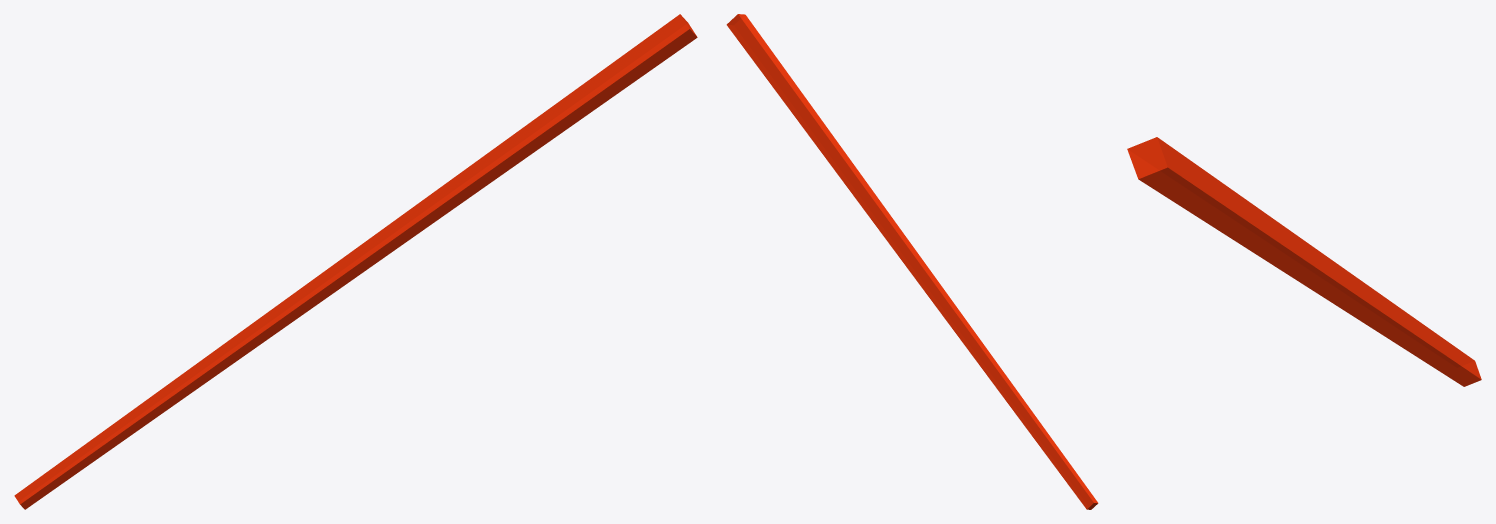
The model's file is Event_421115418_EBrechit_44.fbx.
The picture shows the model from 3 angles, left to right: view 1: azimuth 30°, elevation 25°; view 2: azimuth 150°, elevation 25°; view 3: azimuth 270°, elevation 25°; orthographic projection. The views are drawn at different scales.
Parts seen in each view (by area): view 1: Model; view 2: Model; view 3: Model.
Boxes of the visible parts, x1,y1,x2,y2 form: Model: (14, 14, 697, 509); Model: (726, 14, 1098, 509); Model: (1127, 137, 1481, 386).
Size of the model in its own units: 2.93 by 2.11 by 1.01.
